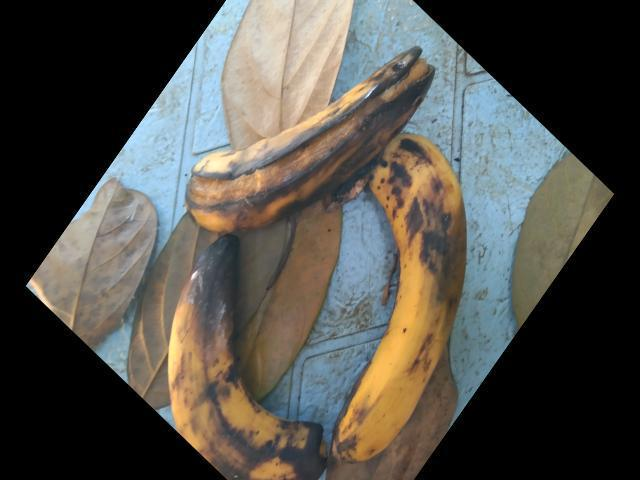overripe: (339, 135, 483, 466), (145, 231, 330, 479)
rotten: (169, 36, 451, 246)
